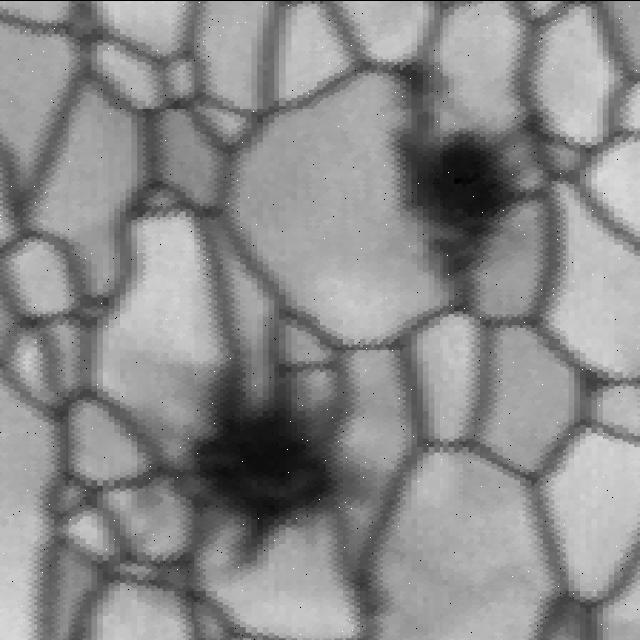good_void: (167, 372, 384, 603), (378, 110, 554, 299)
